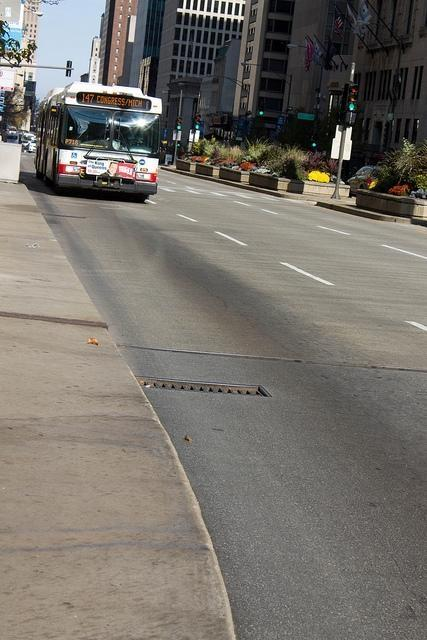bus: (34, 82, 162, 202)
car: (347, 166, 380, 196), (21, 138, 37, 153)
